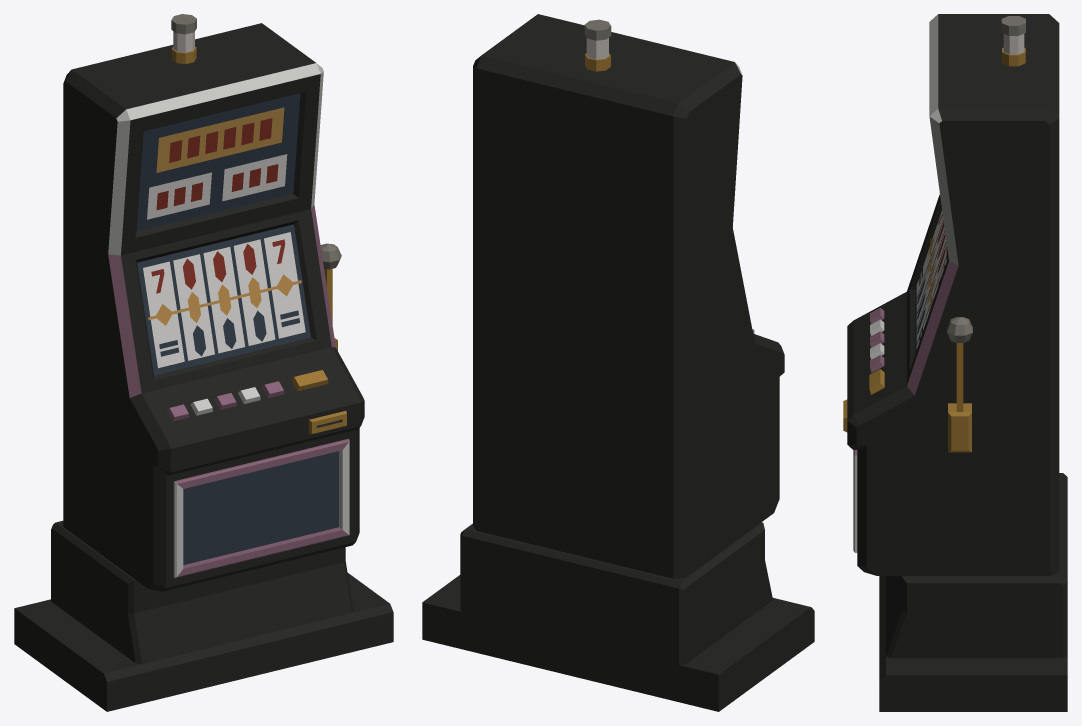
The model's file is video-slot-machine-bbecb9.glb.
3 renders of one model, left to right at view 1: azimuth 30°, elevation 25°; view 2: azimuth 150°, elevation 25°; view 3: azimuth 270°, elevation 25°, orthographic. The views are drawn at different scales.
Parts seen in each view (by area): view 1: cabinet, lever-arm; view 2: cabinet; view 3: cabinet, lever-arm.
Boxes of the visible parts, x1,y1,x2,y2 form: cabinet: (14,14,393,711); lever-arm: (320,243,341,350); cabinet: (422,14,814,711); cabinet: (843,14,1067,711); lever-arm: (947,317,972,452).
Bounding box in the file's own units: 1 × 2.03 × 0.667.
